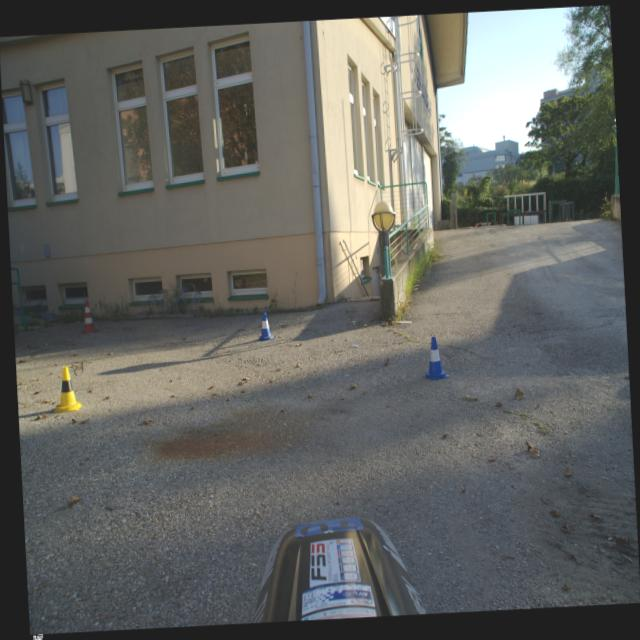blue_cone: (420, 336, 450, 381), (258, 312, 274, 342)
large_orange_cone: (81, 299, 97, 333)
yellow_cone: (52, 366, 83, 413)
